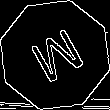M_SE: (22, 22, 88, 88)
